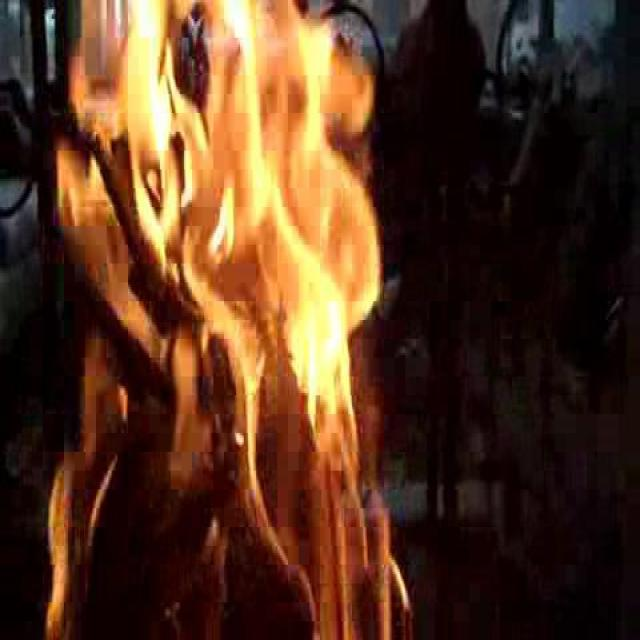fire: (26, 0, 414, 631)
